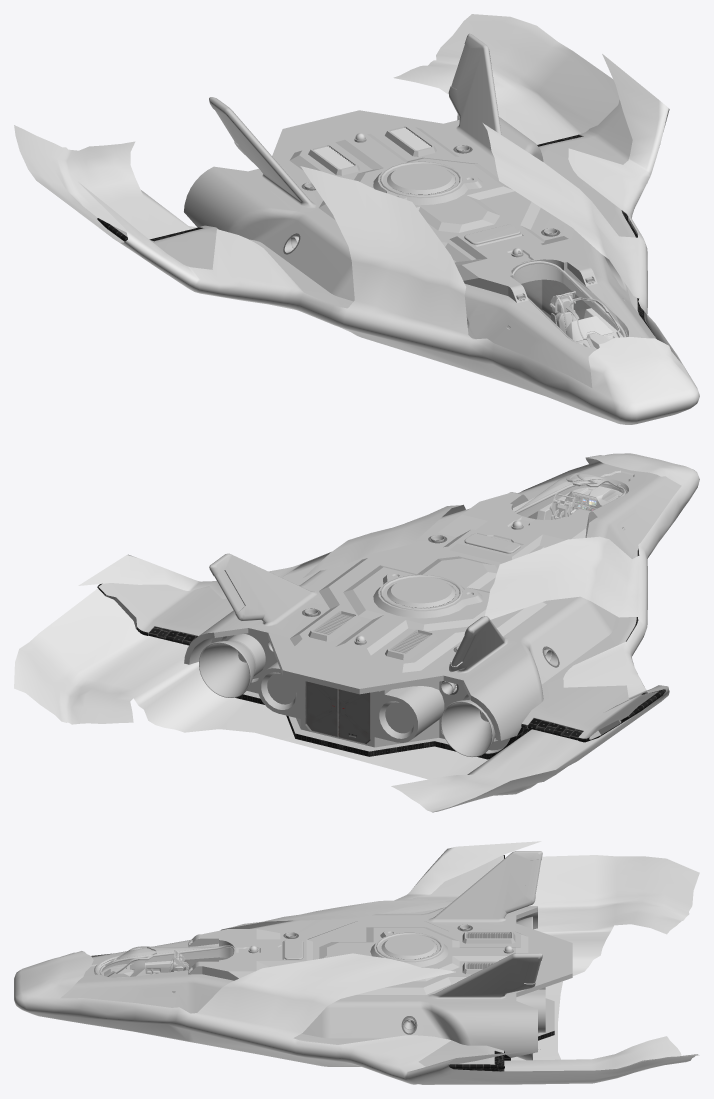
The model's file is NearFutureShip.fbx.
3 renders of one model, top to bottom at view 1: azimuth 30°, elevation 25°; view 2: azimuth 150°, elevation 25°; view 3: azimuth 270°, elevation 25°, orthographic. The views are drawn at different scales.
Visible parts, largest first — view 1: Plasma, NeoShuttle_Body, NeoShuttle_CockpitGlass, Cockpit, NeoShuttle_DockingPort, NeoShuttle_Interior, NeoShuttle_TopHatch; view 2: NeoShuttle_Body, Plasma, NeoShuttle_CockpitGlass, NeoShuttle_DockingPort, Cockpit, Interior_Door1.L, Interior_Door1.R, NeoShuttle_TopHatch; view 3: Plasma, NeoShuttle_Body, NeoShuttle_CockpitGlass, NeoShuttle_DockingPort, Cockpit, NeoShuttle_TopHatch.
Boxes of the visible parts, x1,y1,x2,y2 form: Plasma: [14, 14, 699, 424]; NeoShuttle_Body: [97, 33, 656, 387]; NeoShuttle_CockpitGlass: [513, 263, 623, 348]; Cockpit: [549, 291, 622, 348]; NeoShuttle_DockingPort: [387, 164, 455, 194]; NeoShuttle_Interior: [521, 279, 590, 319]; NeoShuttle_TopHatch: [464, 224, 520, 244]; NeoShuttle_Body: [97, 463, 681, 759]; Plasma: [14, 453, 699, 812]; NeoShuttle_CockpitGlass: [515, 473, 623, 519]; NeoShuttle_DockingPort: [387, 577, 455, 607]; Cockpit: [537, 486, 622, 519]; Interior_Door1.L: [306, 681, 338, 737]; Interior_Door1.R: [339, 689, 370, 743]; NeoShuttle_TopHatch: [464, 533, 520, 553]; Plasma: [14, 841, 699, 1084]; NeoShuttle_Body: [60, 851, 572, 1071]; NeoShuttle_CockpitGlass: [101, 946, 233, 977]; NeoShuttle_DockingPort: [381, 934, 437, 959]; Cockpit: [101, 950, 188, 977]; NeoShuttle_TopHatch: [284, 939, 303, 959].
Bounding box in the file's own units: 1828 × 482 × 2434.
